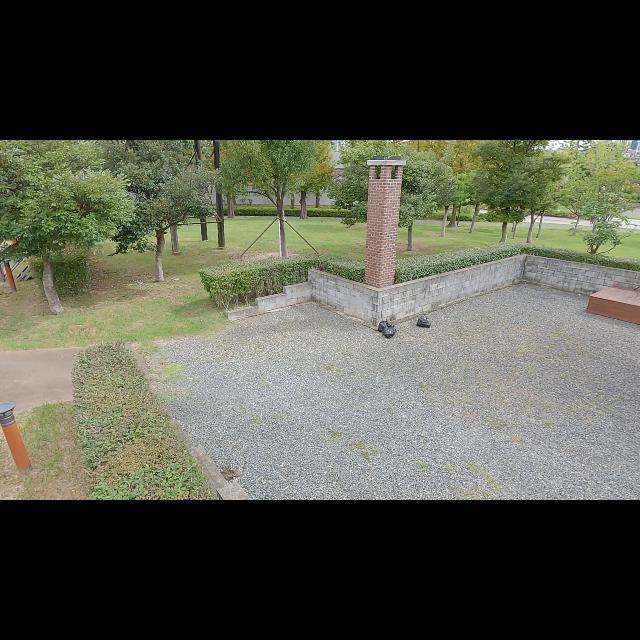trash: (378, 318, 392, 332), (382, 323, 396, 337), (416, 316, 432, 328)
